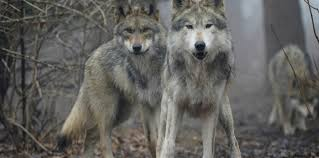Lobo: (57, 6, 166, 145), (156, 1, 242, 157), (263, 35, 314, 146)
